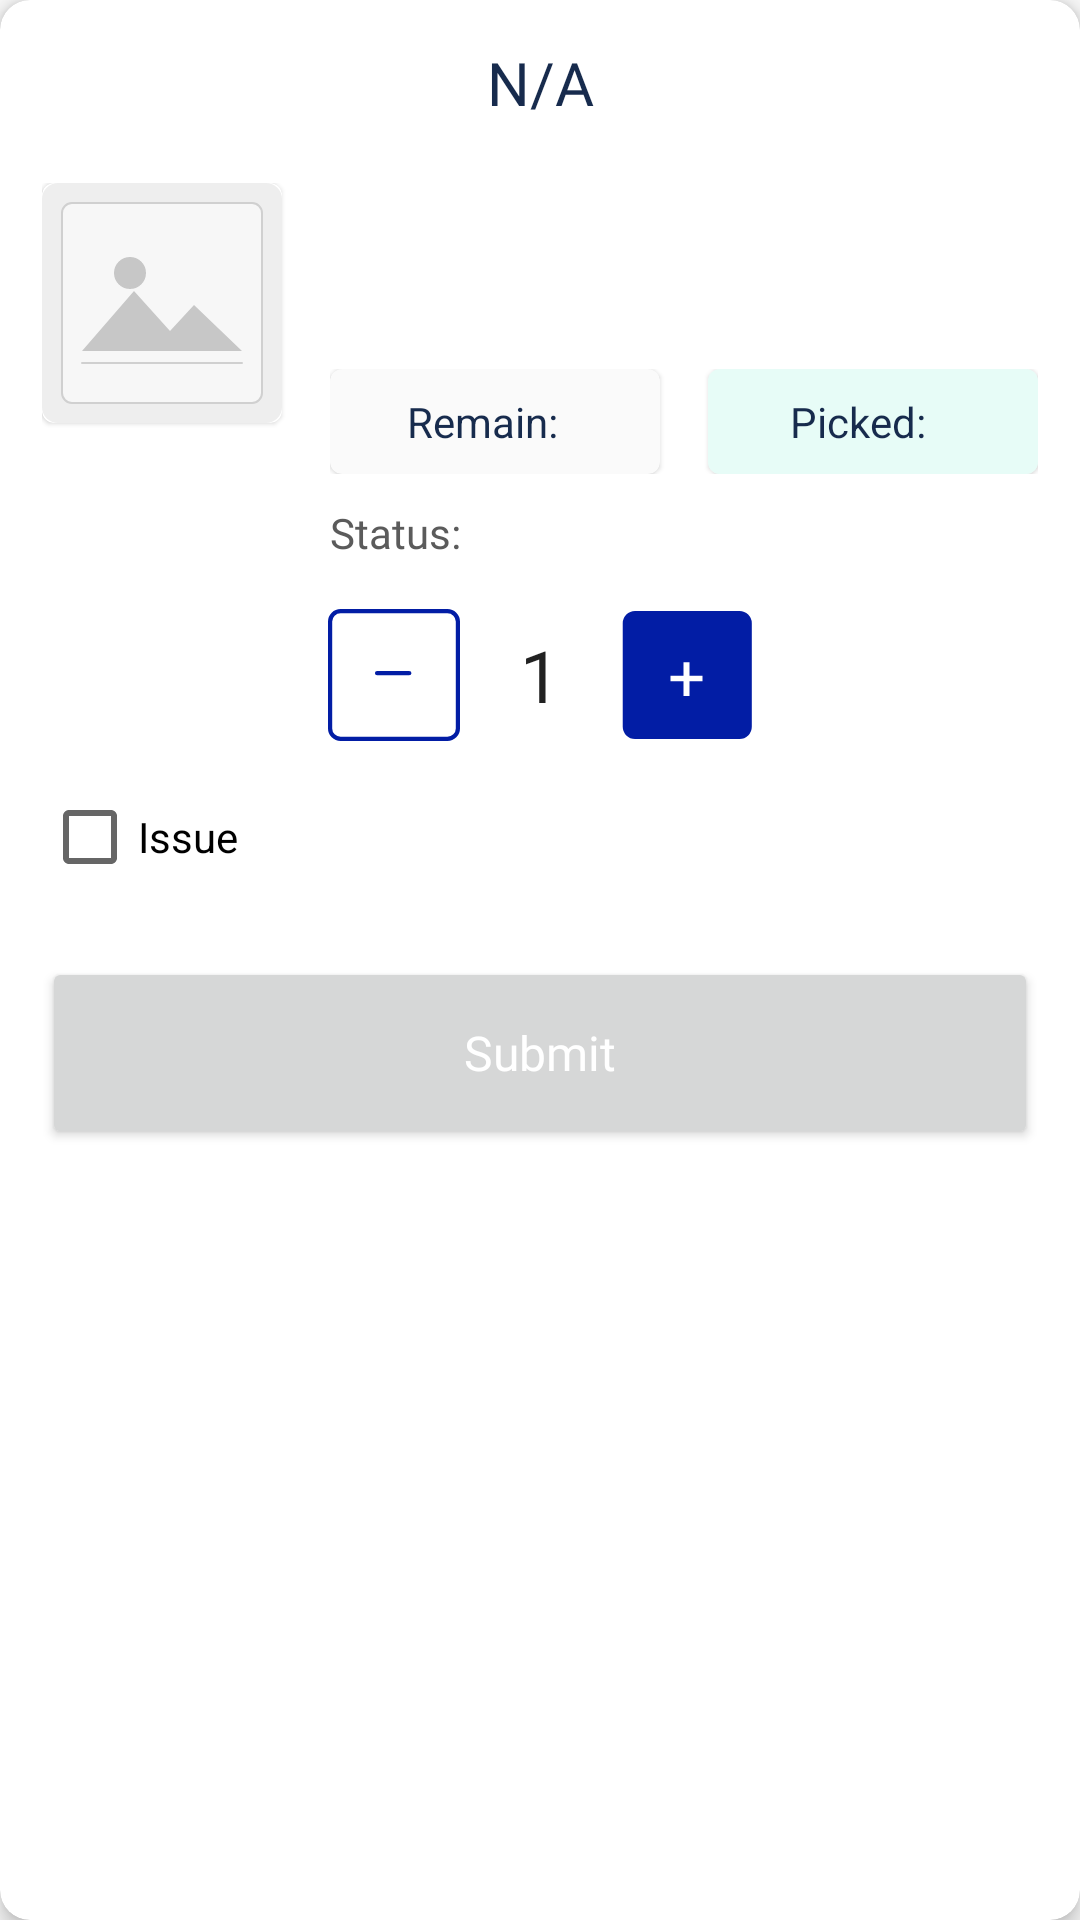

Point at icon controls on the screen. Image size 1080 x 1920, points as (x,y).
Decrease quantity: (394,675)
Increase quantity: (687,675)
